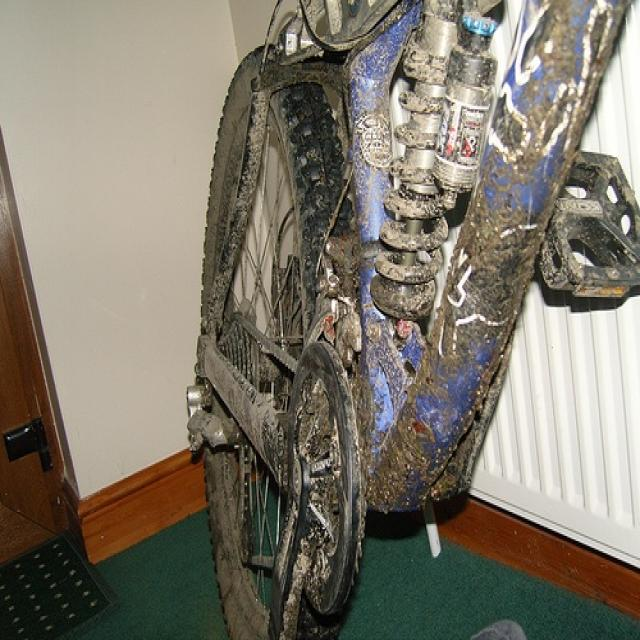bicycle: (187, 0, 639, 637)
